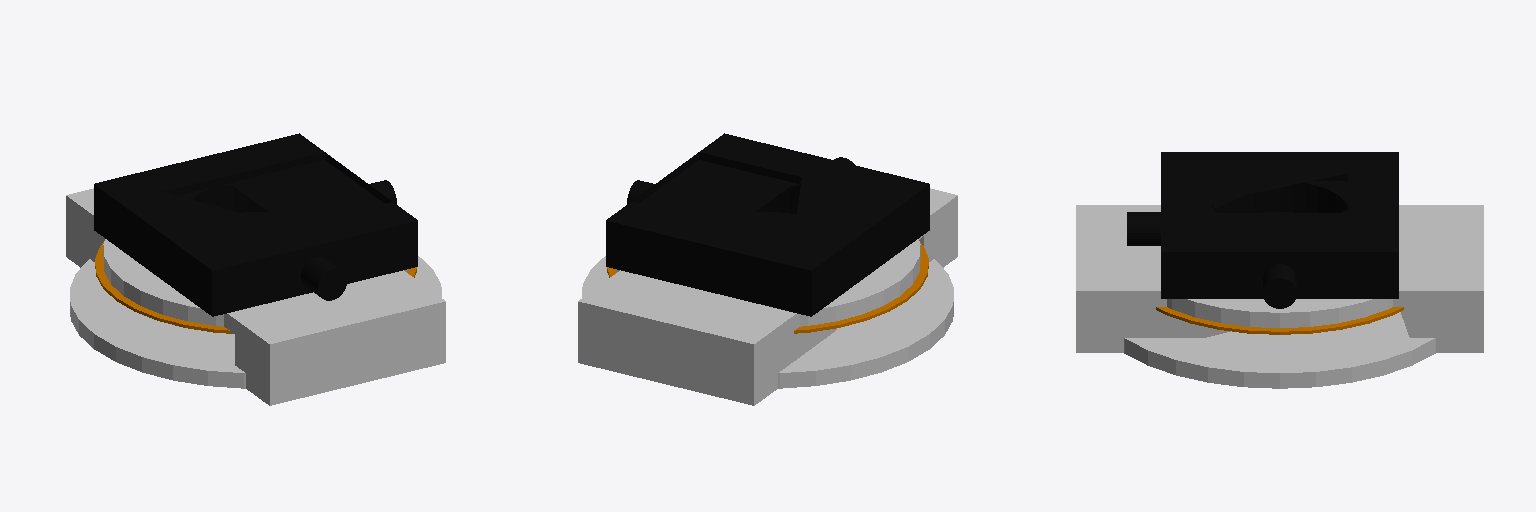
File: Base_Pad.obj
The picture shows the model from 3 angles: view 1: azimuth 30°, elevation 25°; view 2: azimuth 150°, elevation 25°; view 3: azimuth 270°, elevation 25°; orthographic projection.
Visible parts, largest first — view 1: Cube.001, Cube, Cylinder, Cylinder.002, Cylinder.001; view 2: Cube.001, Cube, Cylinder, Cylinder.001; view 3: Cube.001, Cube, Cylinder, Cylinder.001, Cylinder.003, Cylinder.002.
Part boxes in pixels (x1,y1,x2,y2): Cube.001: (94,133,417,316); Cube: (66,188,445,405); Cylinder: (70,256,441,388); Cylinder.002: (301,257,346,300); Cylinder.001: (95,242,416,333); Cube.001: (606,133,929,316); Cube: (578,188,957,405); Cylinder: (582,256,953,388); Cylinder.001: (607,242,928,333); Cube.001: (1161,152,1398,298); Cube: (1076,205,1483,352); Cylinder: (1124,312,1435,388); Cylinder.001: (1156,307,1403,334); Cylinder.003: (1263,264,1296,308); Cylinder.002: (1127,212,1160,245).
Bounding box in the file's own units: 2.2 × 0.7 × 2.4.